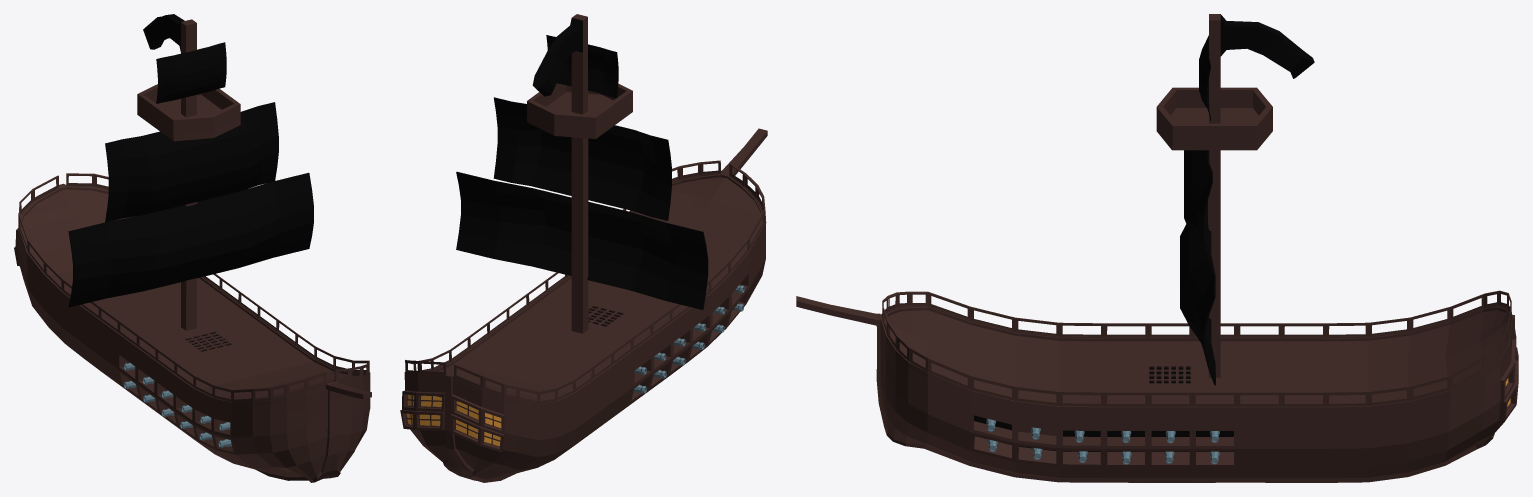
Rendered from WITHOUTFRONTSAIL.fbx.
The picture shows the model from 3 angles, left to right: view 1: azimuth 30°, elevation 25°; view 2: azimuth 150°, elevation 25°; view 3: azimuth 270°, elevation 25°; orthographic projection. The views are drawn at different scales.
Visible parts, largest first — view 1: Cube; view 2: Cube; view 3: Cube.
Boxes of the visible parts, <box> form: Cube: <box>14,14,371,482</box>; Cube: <box>400,14,767,482</box>; Cube: <box>796,14,1518,482</box>.
Size of the model in its own units: 391 by 613 by 868.
